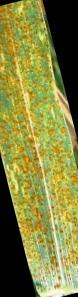Wheat: (1, 7, 46, 71), (16, 169, 78, 215), (3, 125, 66, 163), (31, 218, 78, 261), (2, 76, 53, 114)
